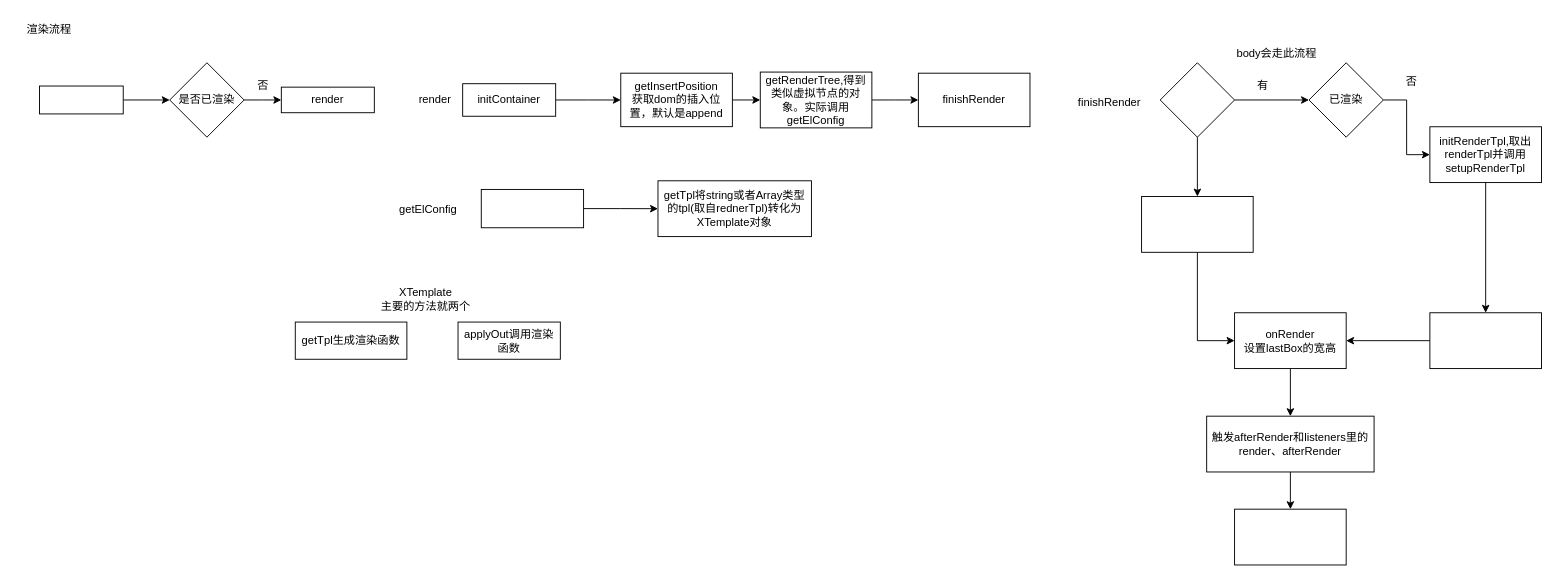
Some shapes in this 1558 by 581 pixel diagram are drawn without their labels. Here are the shapes that lost their labels. From the top down, the centre of each, then its label:
At [81,99]: "doAutoRender".
At [1197,99]: "是否有el(dom)".
At [532,208]: "initRednerTpl".
At [1197,224]: "插入dom".
At [1485,340]: "将renderData合并至组件实例、插入dom".
At [1290,536]: "初始化事件initEvent".
